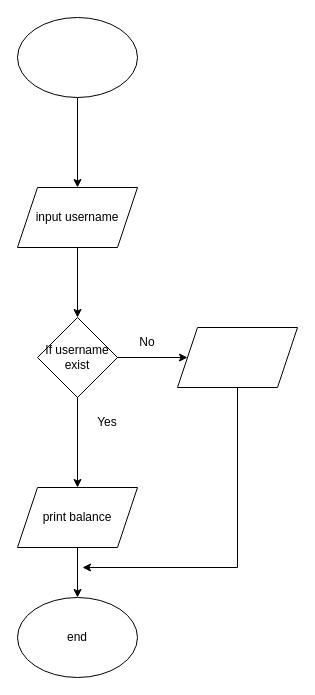
Some shapes in this 315 by 695 pixel diagram are drawn without their labels. Each missing label, with the box of its shape:
check balance: (16, 16, 138, 98)
print username does not exist: (176, 326, 298, 388)
